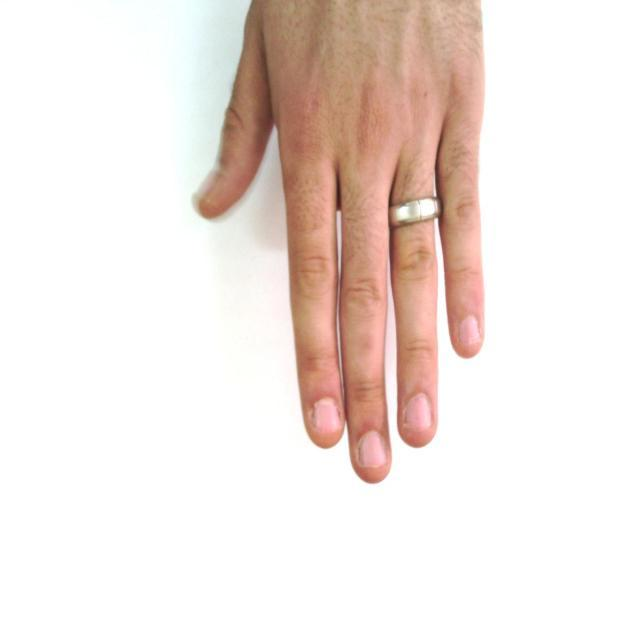Fingernail: (359, 433, 387, 467), (313, 399, 340, 434), (406, 396, 431, 431), (460, 317, 480, 347)
